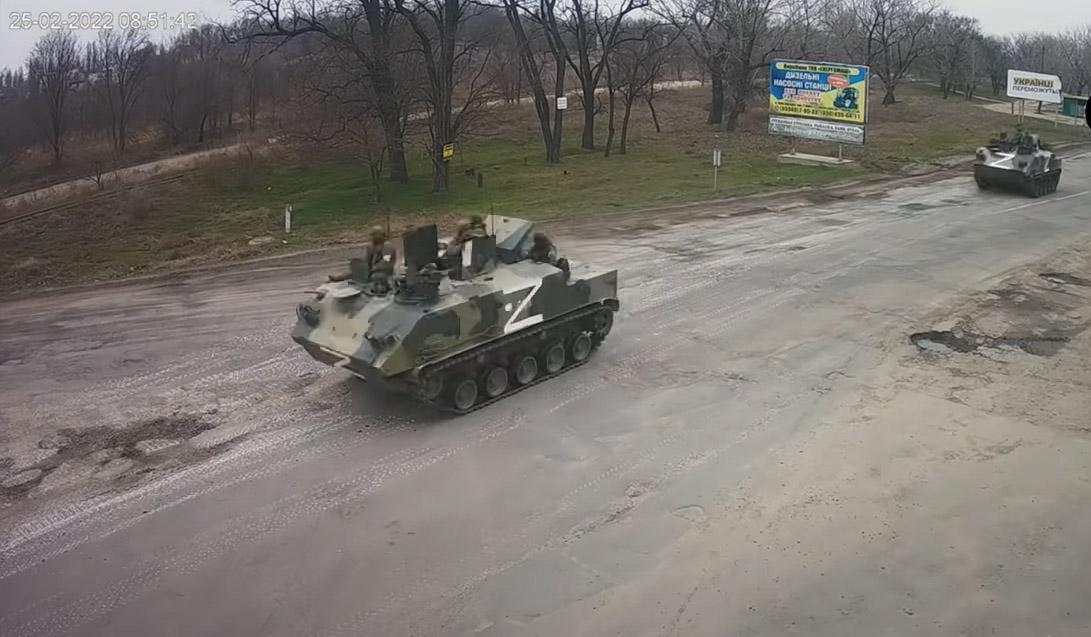person: (450, 206, 492, 274), (360, 223, 397, 282), (530, 230, 564, 272)
tank: (293, 210, 630, 419), (972, 129, 1070, 205)
